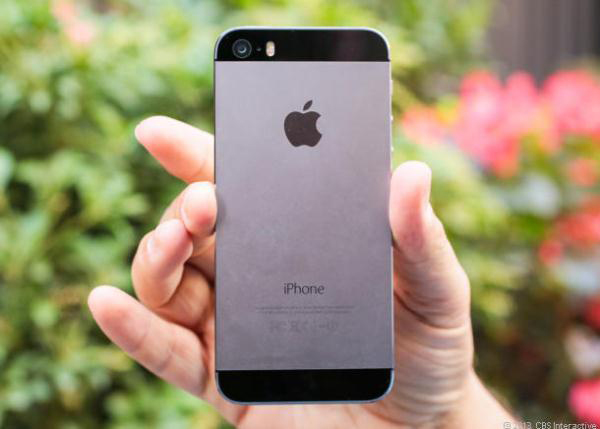iphone4: (208, 17, 403, 411)
